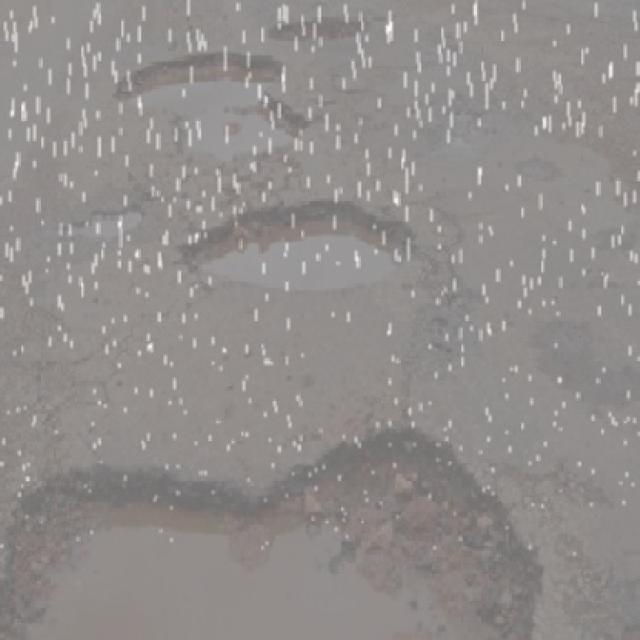Pothole: (0, 406, 577, 640), (100, 45, 326, 176), (172, 202, 428, 300), (58, 197, 155, 244), (254, 9, 365, 47), (487, 145, 560, 189)
